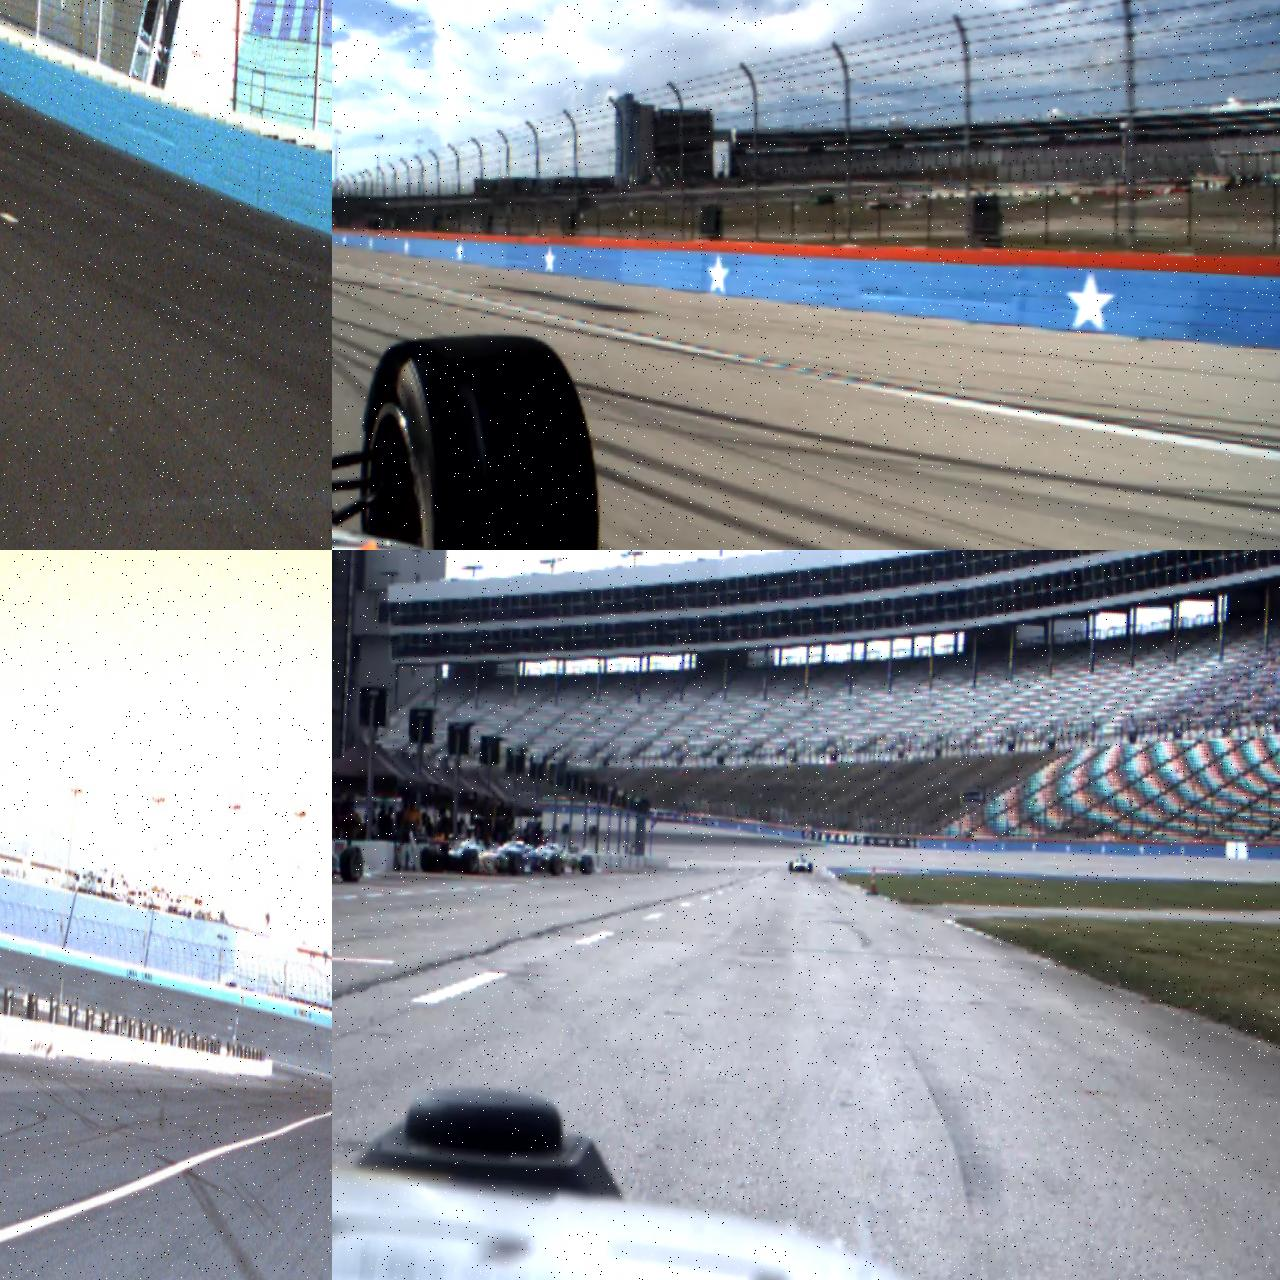AV: (418, 821, 526, 878), (788, 851, 813, 873)
Wheel: (352, 329, 610, 550), (339, 845, 365, 883), (459, 847, 478, 874), (418, 845, 435, 873), (508, 851, 524, 876), (549, 853, 563, 876), (579, 855, 594, 874), (808, 862, 812, 873), (788, 862, 792, 872)
